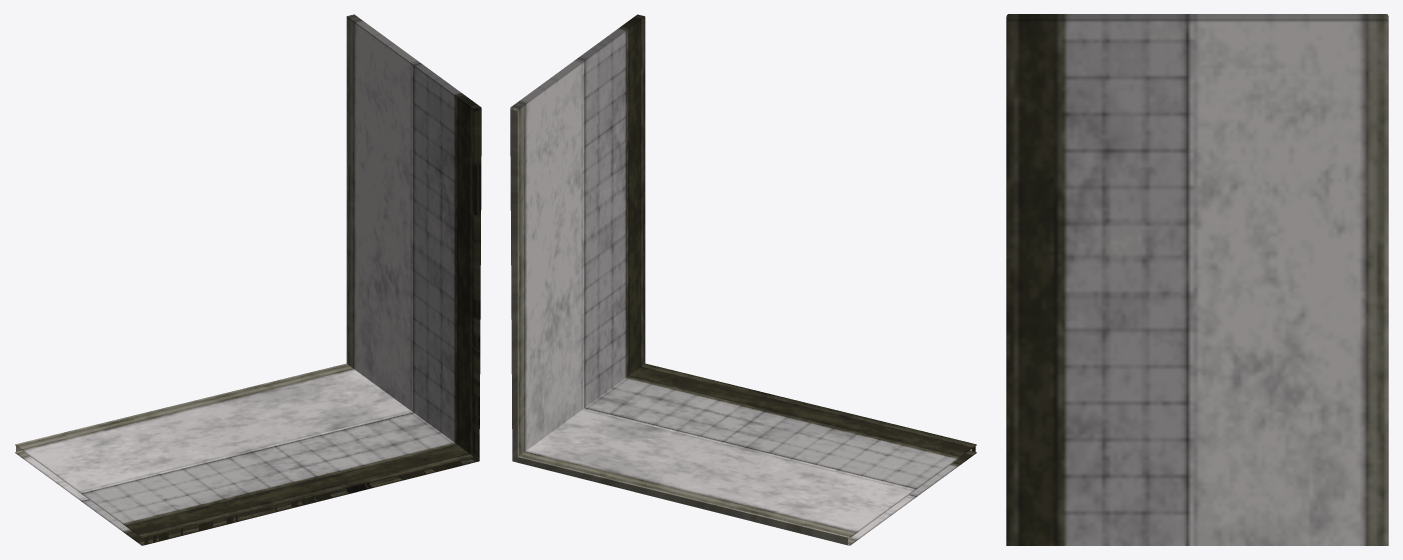
Rendered from SM_EC_House_Wall_9x3_Bend_7.fbx.
3 renders of one model, left to right at view 1: azimuth 30°, elevation 25°; view 2: azimuth 150°, elevation 25°; view 3: azimuth 270°, elevation 25°, orthographic. The views are drawn at different scales.
Visible parts, largest first — view 1: SM_EC_House_Wall_9x3_Bend_7; view 2: SM_EC_House_Wall_9x3_Bend_7; view 3: SM_EC_House_Wall_9x3_Bend_7.
Part boxes in pixels (<box>): SM_EC_House_Wall_9x3_Bend_7: <box>15,14,481,545</box>; SM_EC_House_Wall_9x3_Bend_7: <box>510,14,976,545</box>; SM_EC_House_Wall_9x3_Bend_7: <box>1006,14,1388,545</box>.
Bounding box in the file's own units: 4.6 × 3 × 4.6.
